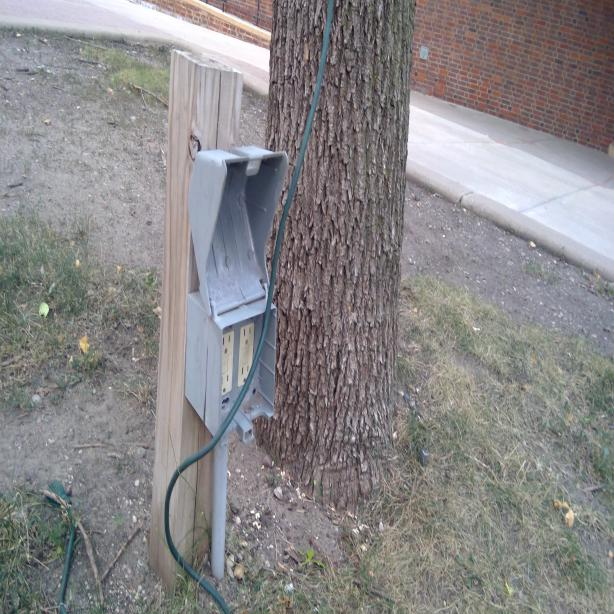typeb: (242, 324, 254, 349), (222, 332, 234, 354), (220, 375, 232, 396), (239, 363, 250, 384)
